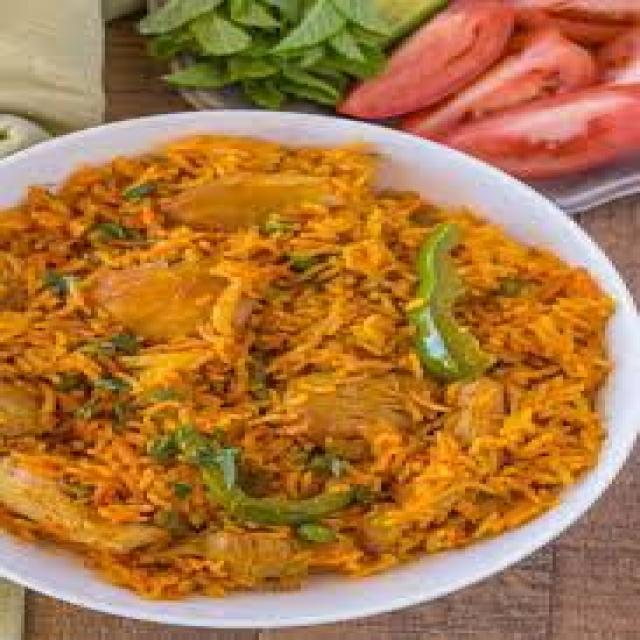chicken biryani: (2, 162, 544, 583)
